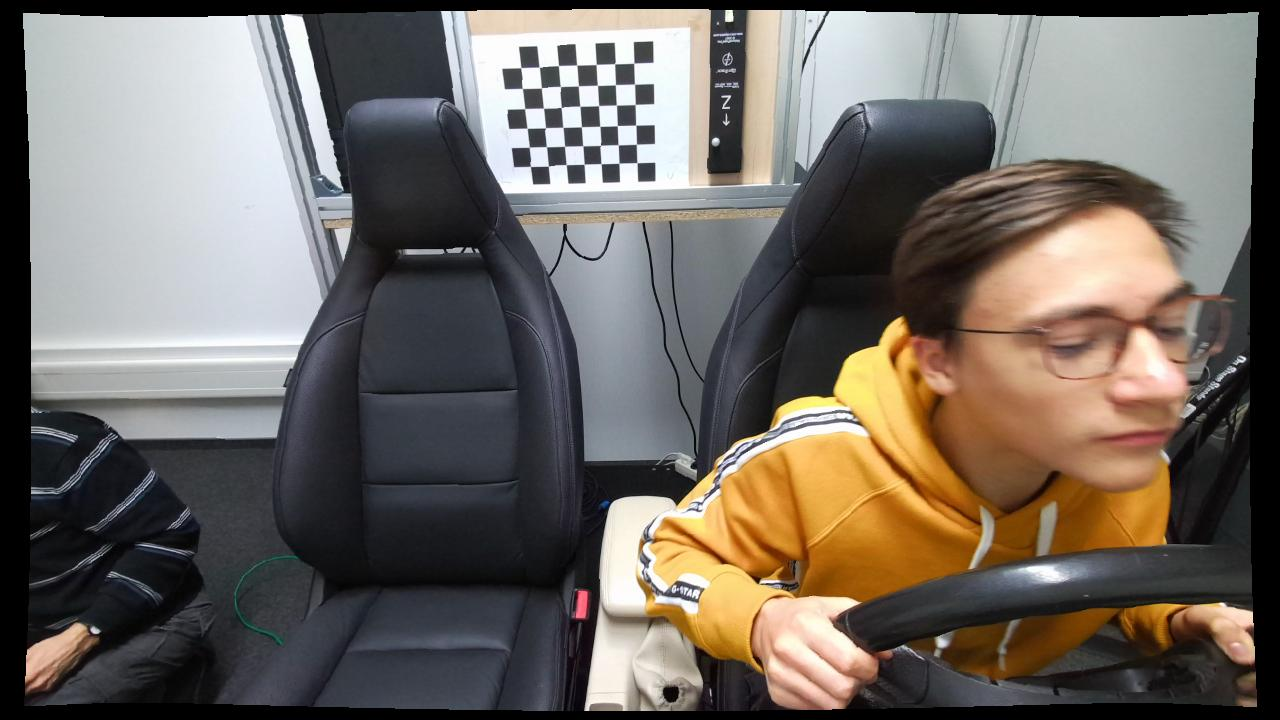Distracted: (636, 154, 1241, 710)
